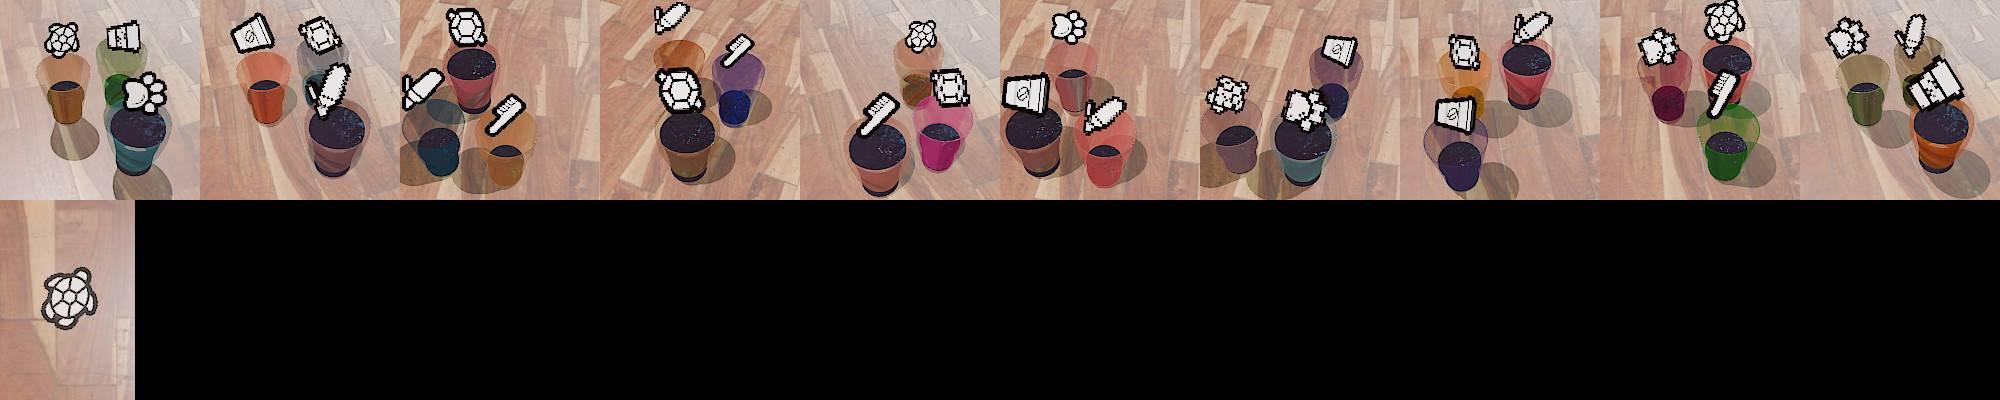icon: (40, 266, 99, 331), (1903, 55, 1964, 111), (304, 59, 351, 120), (654, 66, 705, 115), (1282, 85, 1332, 132), (1003, 71, 1051, 117), (856, 89, 901, 138), (120, 70, 167, 115), (402, 68, 445, 113), (1825, 17, 1870, 60), (297, 15, 343, 57), (485, 92, 527, 138), (230, 13, 274, 55), (1704, 0, 1746, 43), (1636, 27, 1681, 68), (1082, 94, 1128, 134), (445, 6, 487, 48), (929, 66, 969, 108), (1204, 74, 1246, 115), (1705, 69, 1740, 118), (1435, 94, 1477, 134), (1511, 10, 1554, 46), (1895, 13, 1927, 59), (1048, 10, 1088, 46), (43, 22, 80, 59), (1446, 32, 1481, 71), (719, 32, 755, 69), (1320, 34, 1357, 69), (106, 19, 143, 54), (654, 1, 690, 36), (906, 19, 937, 52)
